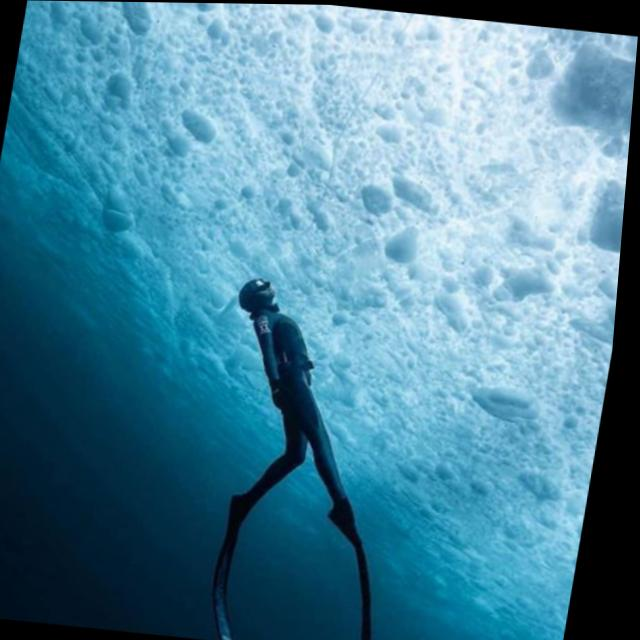human: (172, 253, 466, 640)
